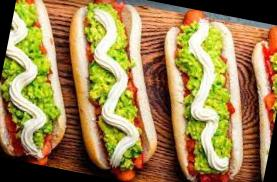Completos: (37, 0, 179, 182), (145, 6, 262, 182)
